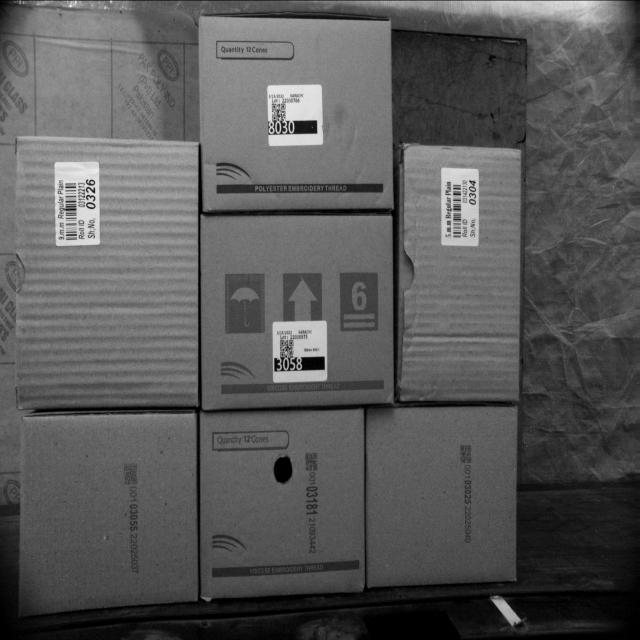cardboxes: (14, 135, 198, 411), (196, 12, 394, 206), (198, 208, 393, 404), (18, 413, 200, 620), (199, 401, 367, 597), (402, 140, 522, 409), (366, 409, 516, 581)
